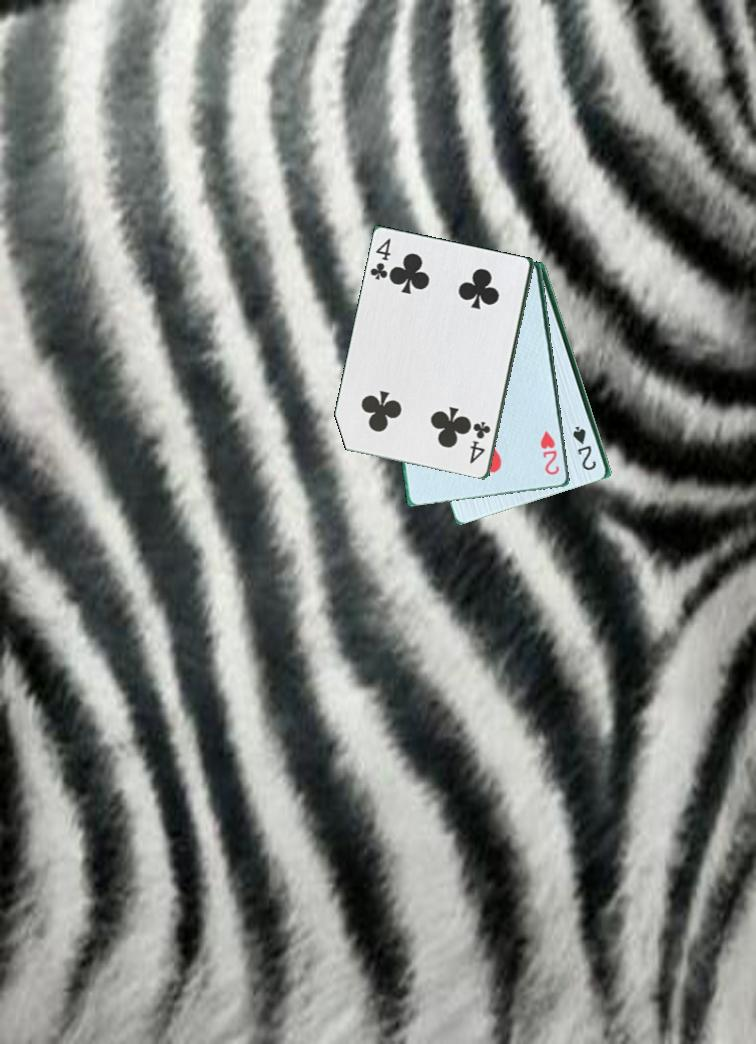2h: (538, 427, 563, 478)
2s: (571, 423, 599, 480)
4c: (466, 416, 494, 467), (367, 235, 396, 283)
